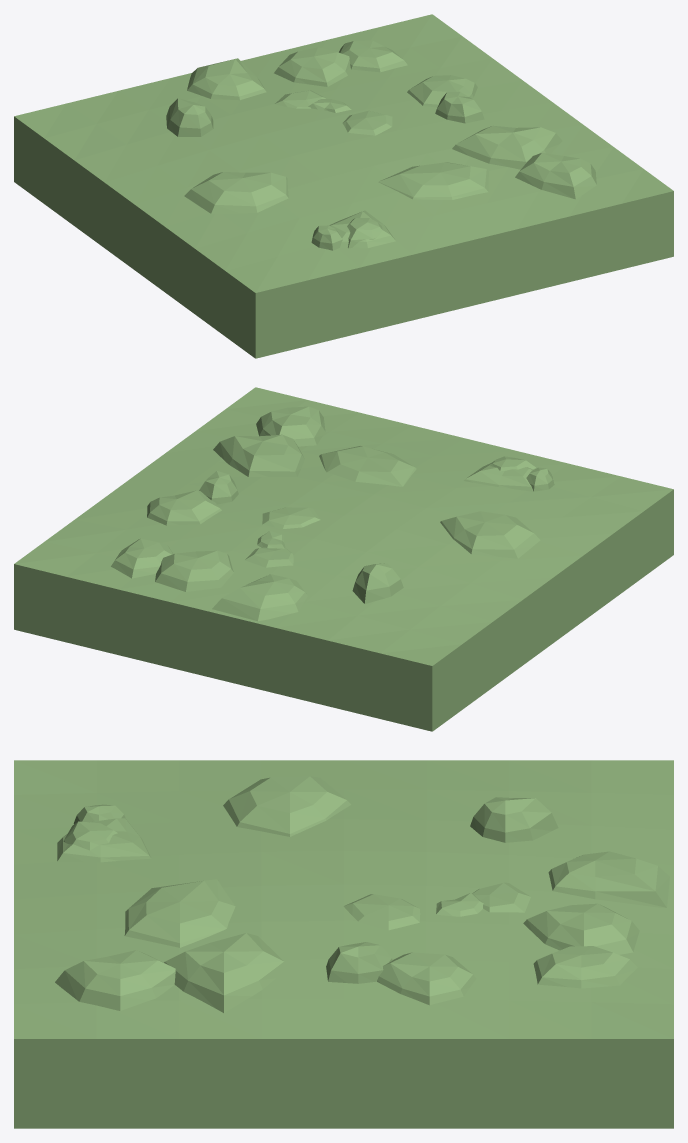
File: moss-carpet-tile.glb
3 views of the same model, one above another, from view 1: azimuth 30°, elevation 25°; view 2: azimuth 150°, elevation 25°; view 3: azimuth 270°, elevation 25° (orthographic). The views are drawn at different scales.
Visible parts, largest first — view 1: moss-carpet-tile; view 2: moss-carpet-tile; view 3: moss-carpet-tile.
Part boxes in pixels (bbox=[...]): moss-carpet-tile: bbox=[14, 14, 673, 358]; moss-carpet-tile: bbox=[14, 387, 673, 731]; moss-carpet-tile: bbox=[14, 760, 673, 1128].
Bounding box in the file's own units: 2 × 0.4273 × 2.
